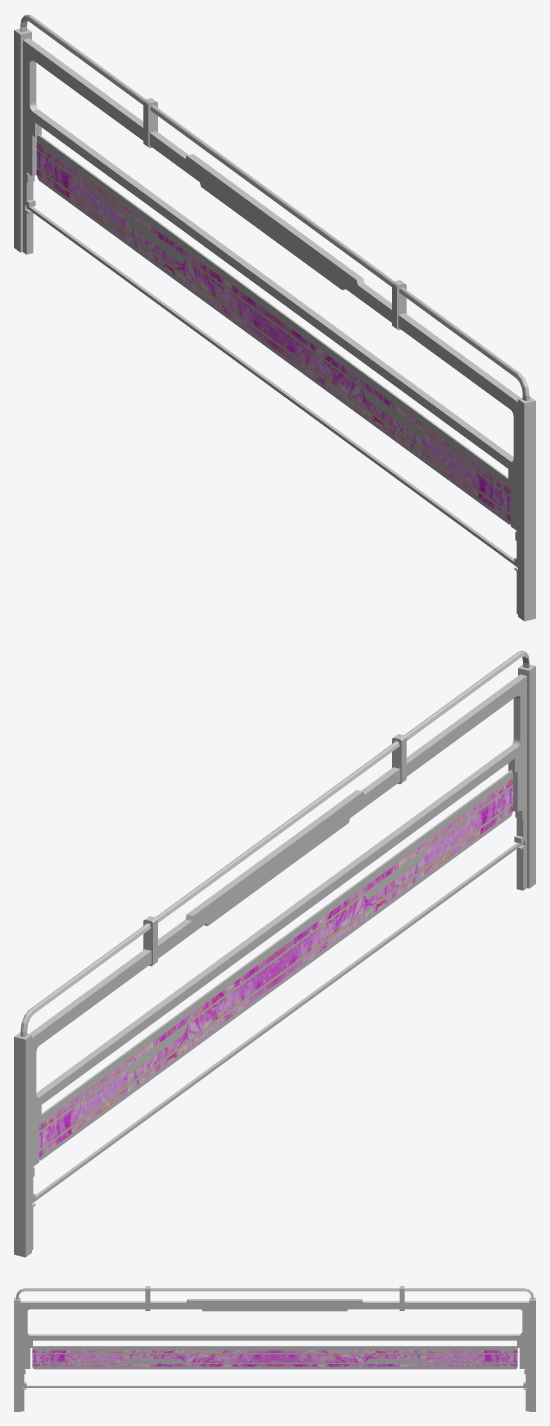
The model's file is rail_01.fbx.
3 renders of one model, top to bottom at view 1: azimuth 30°, elevation 25°; view 2: azimuth 150°, elevation 25°; view 3: azimuth 270°, elevation 25°, orthographic. The views are drawn at different scales.
Visible parts, largest first — view 1: Cube.305, Cube.306, Cube.307; view 2: Cube.305, Cube.306, Cube.307; view 3: Cube.305, Cube.306, Cube.307.
Boxes of the visible parts, left/top/right/bottom form: Cube.305: left=23, top=38, right=520, bottom=613; Cube.306: left=36, top=142, right=510, bottom=521; Cube.307: left=14, top=14, right=535, bottom=621; Cube.305: left=29, top=674, right=526, bottom=1249; Cube.306: left=39, top=778, right=513, bottom=1157; Cube.307: left=14, top=650, right=535, bottom=1257; Cube.305: left=20, top=1286, right=529, bottom=1411; Cube.306: left=32, top=1350, right=517, bottom=1366; Cube.307: left=14, top=1288, right=535, bottom=1411.
Bounding box in the file's own units: 0.05 × 0.9984 × 3.82.
